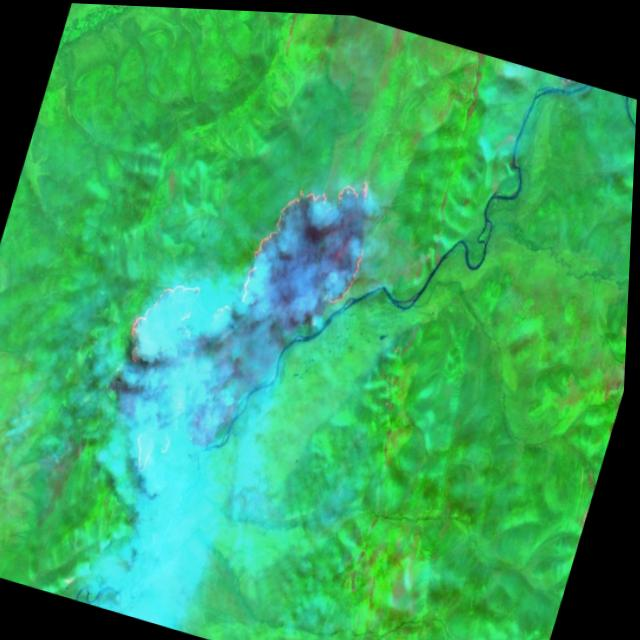fire: (118, 118, 388, 419)
